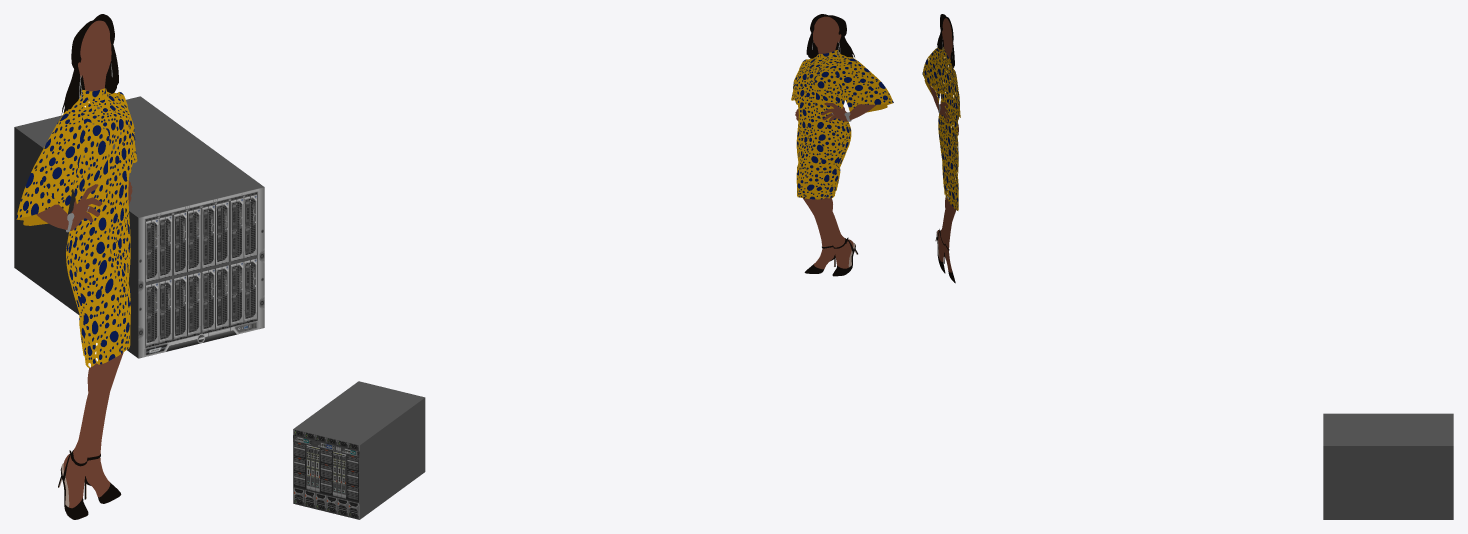
The model's file is Dell blade.glb.
3 views of the same model, side by side, from view 1: azimuth 30°, elevation 25°; view 2: azimuth 150°, elevation 25°; view 3: azimuth 270°, elevation 25° (orthographic). The views are drawn at different scales.
Parts seen in each view (by area): view 1: Component, Sumele; view 2: Component, Sumele; view 3: Component, Sumele.
Part boxes in pixels (x1,y1,x2,y2): Component: (14, 96, 264, 358); Sumele: (16, 14, 137, 519); Component: (293, 381, 425, 519); Sumele: (791, 14, 893, 276); Component: (1323, 413, 1453, 519); Sumele: (922, 14, 960, 283).
Bounding box in the file's own units: 2.2 × 2.34 × 3.06.
10 materials, 2 textured.
